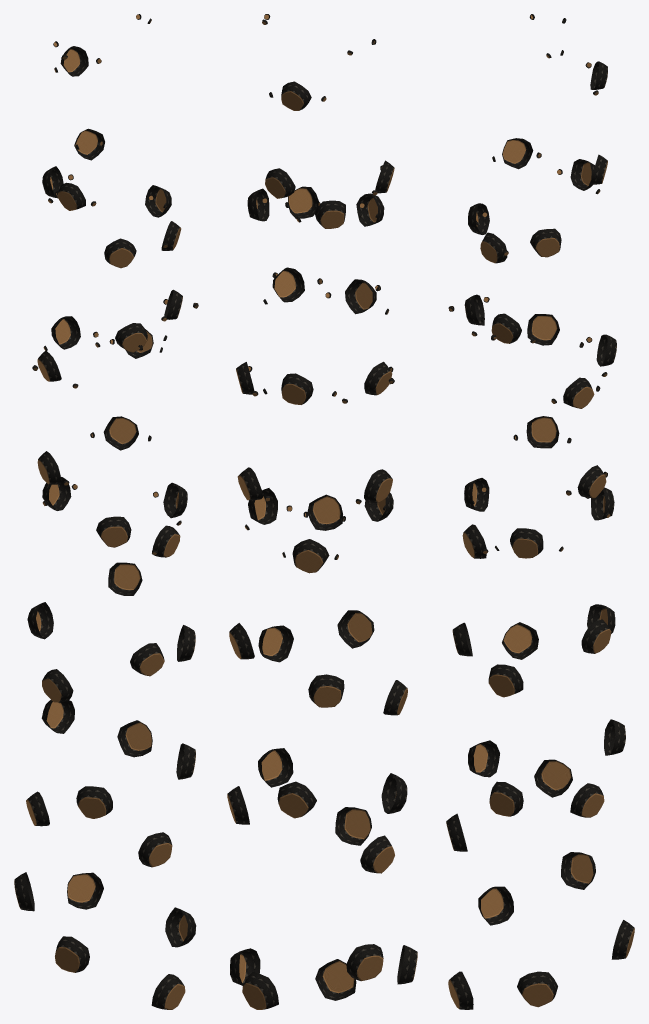
The model's file is Sitka_Mature_01_HighPruned_Recent_LOD2.fbx.
3 renders of one model, left to right at view 1: azimuth 30°, elevation 25°; view 2: azimuth 150°, elevation 25°; view 3: azimuth 270°, elevation 25°, orthographic. The views are drawn at different scales.
Parts seen in each view (by area): view 1: Sitka_Mature_01_HighPruned_Recent_LOD2_Scars; view 2: Sitka_Mature_01_HighPruned_Recent_LOD2_Scars; view 3: Sitka_Mature_01_HighPruned_Recent_LOD2_Scars.
Part boxes in pixels (x1,y1,x2,y2): Sitka_Mature_01_HighPruned_Recent_LOD2_Scars: [14, 14, 198, 1009]; Sitka_Mature_01_HighPruned_Recent_LOD2_Scars: [227, 14, 417, 1009]; Sitka_Mature_01_HighPruned_Recent_LOD2_Scars: [446, 14, 634, 1009].
Size of what is drawn, in the model's own units: 135 by 780 by 138.
2 materials, 2 textured.
